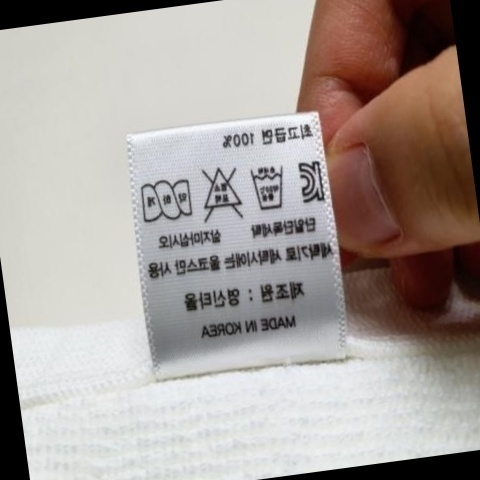hand_wash: (243, 162, 291, 216)
non_chlorine_bleach: (194, 160, 246, 226)
wring: (138, 176, 197, 226)
